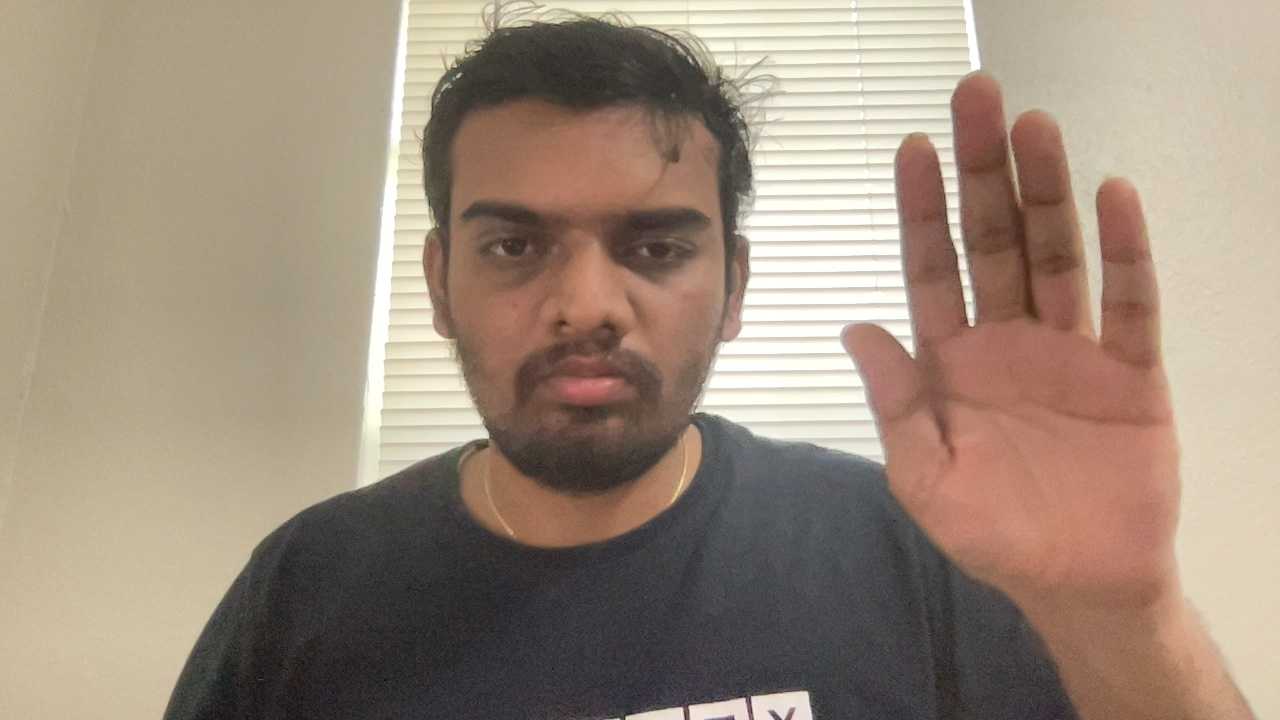hello: (840, 71, 1193, 616)
